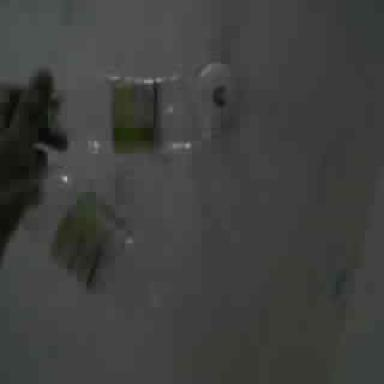bottle: (12, 154, 155, 303), (49, 82, 188, 152)
